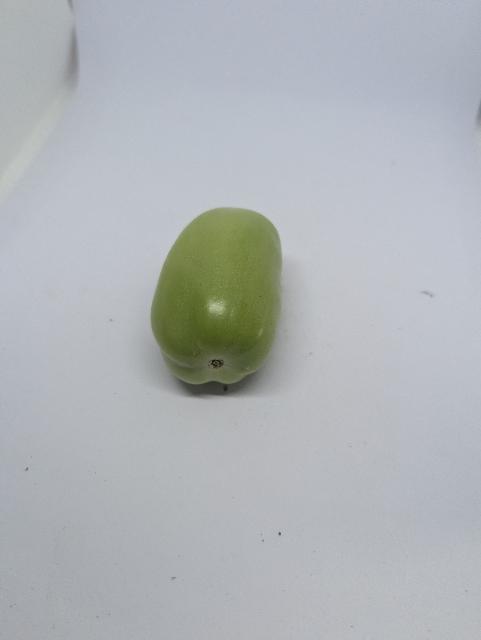green: (144, 189, 293, 408)
